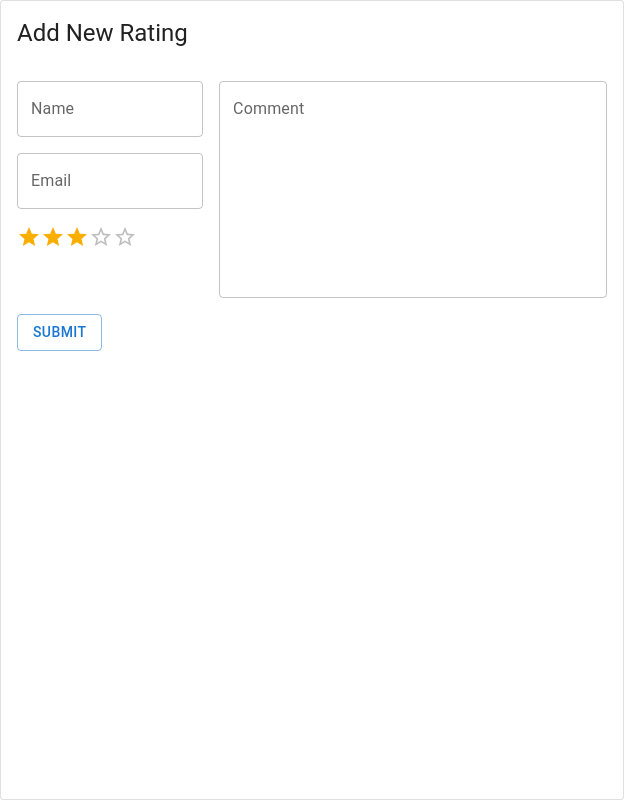
Test case: New Rating Form › should correctly validate incorrect emails
Type "not an email" into the field with test id "new-comment-email-field" at {"x": 110, "y": 181}, box [17,153,203,209]
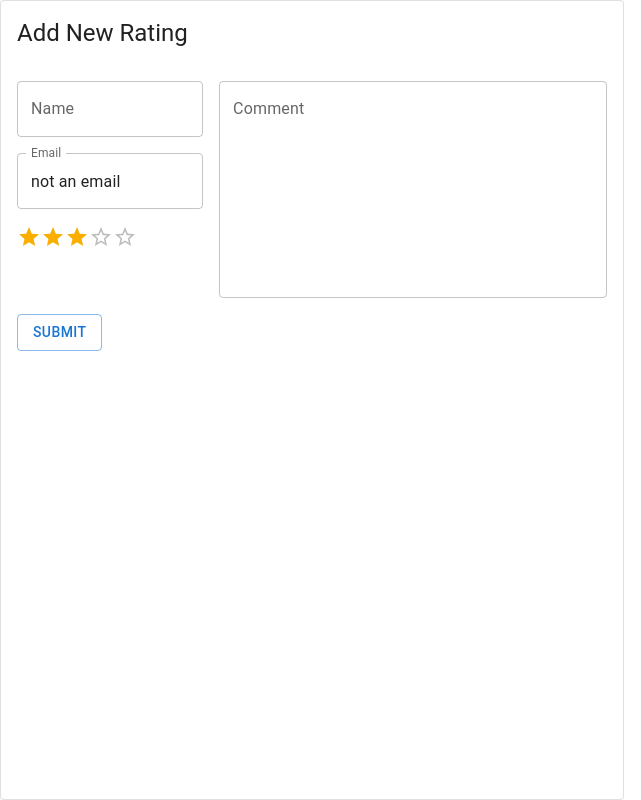
Click the button with test id "new-comment-submit-button" at {"x": 60, "y": 332}, box [17,314,102,350]
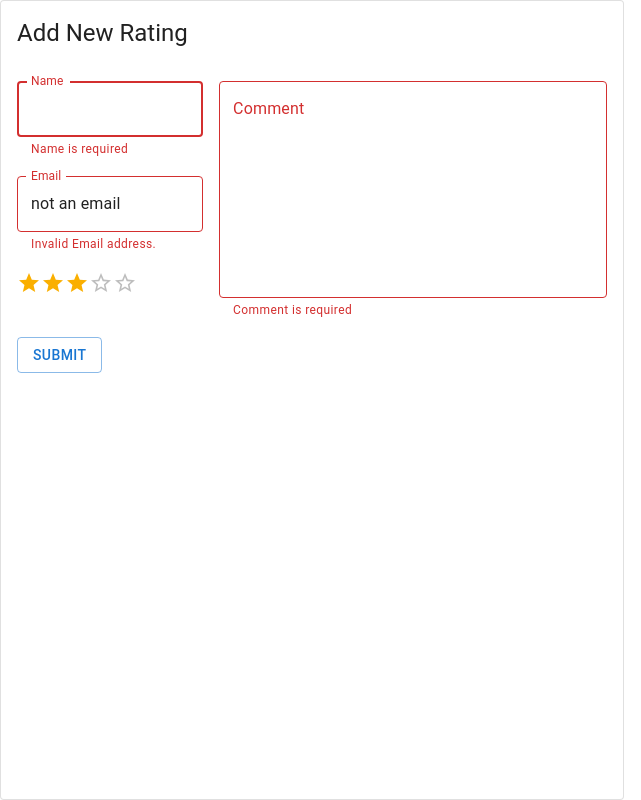
Check: the text "Invalid Email address." is shown, box [31,237,156,251]
